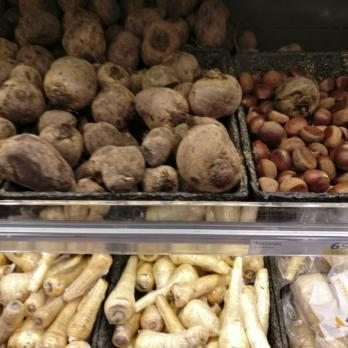beetroot: (3, 2, 235, 187)
